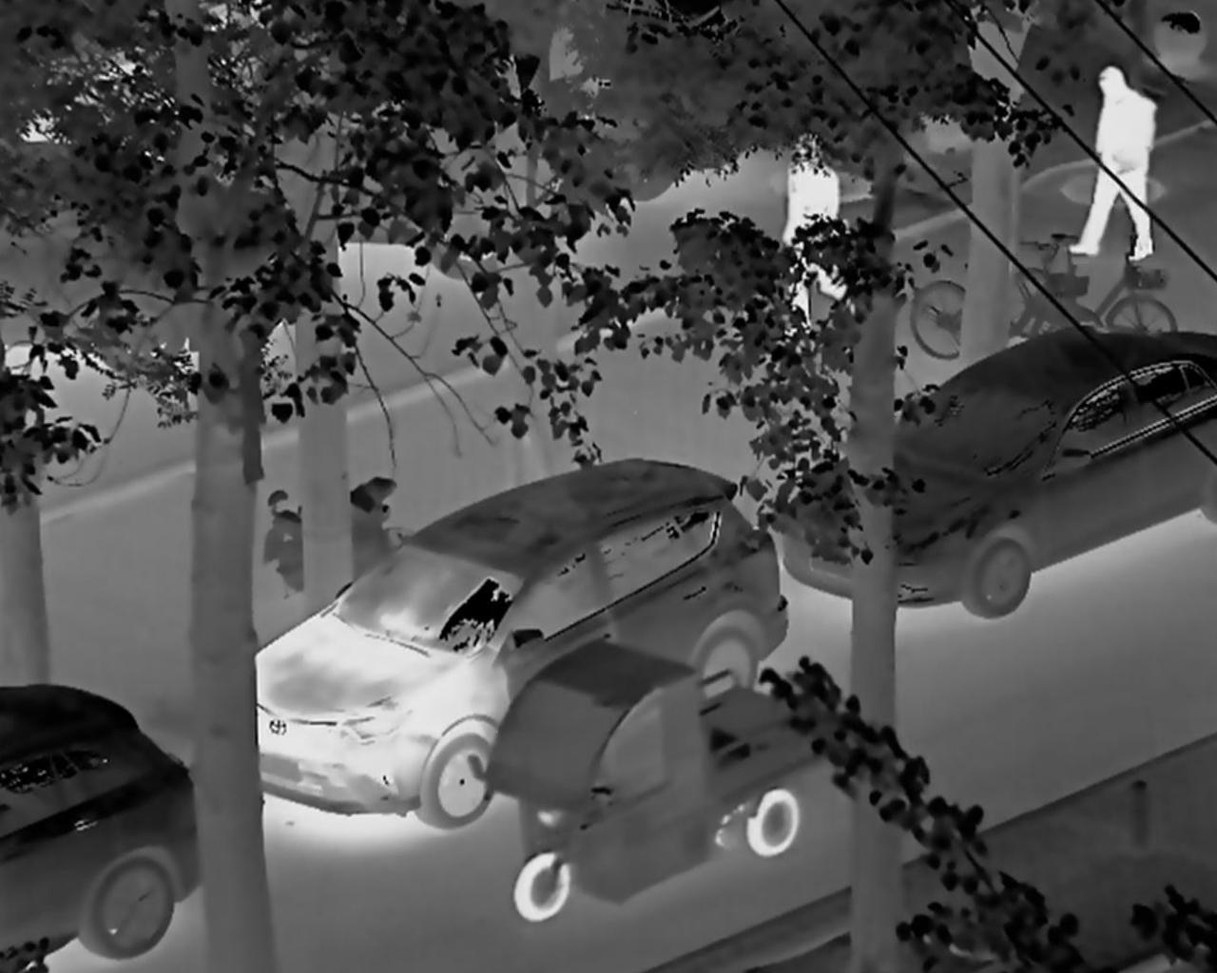person: (1060, 57, 1166, 271), (784, 132, 860, 327)
